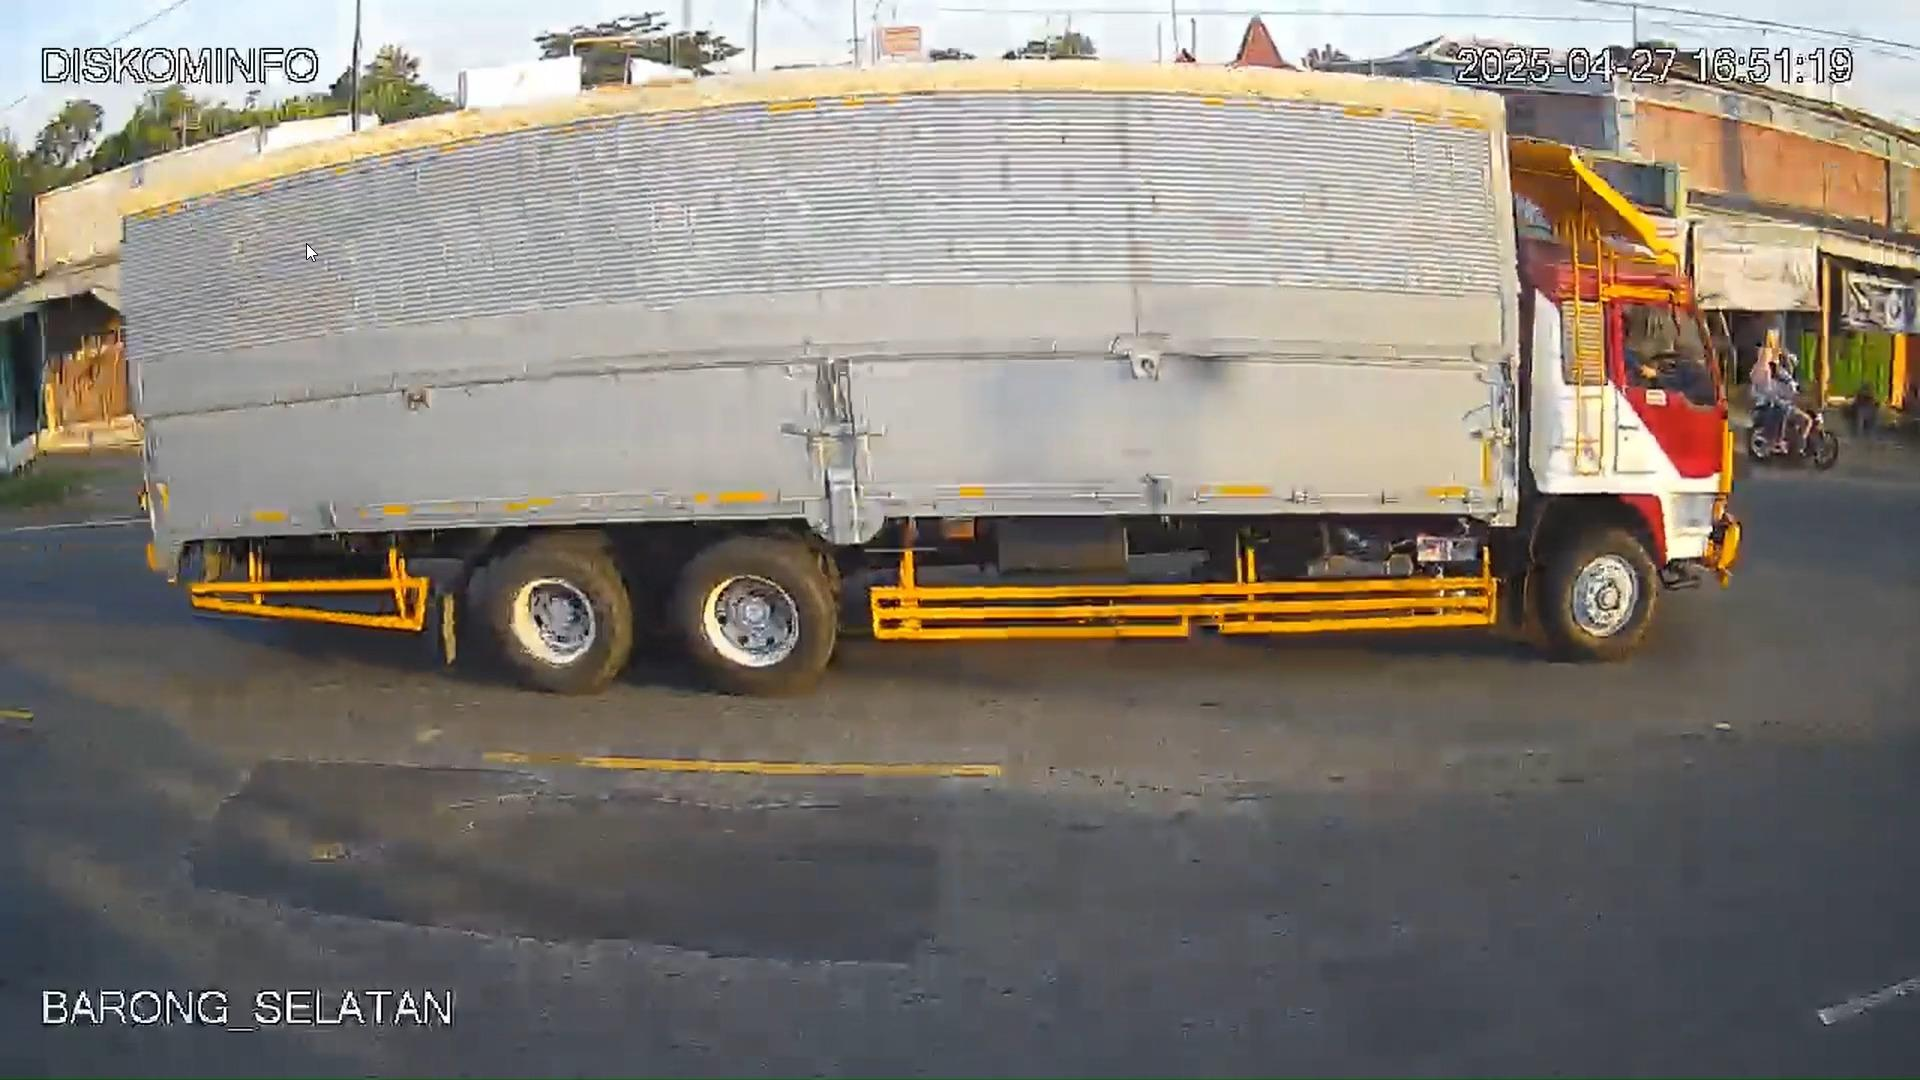Motor: (1746, 392, 1837, 471)
Truck: (95, 74, 1746, 671)
